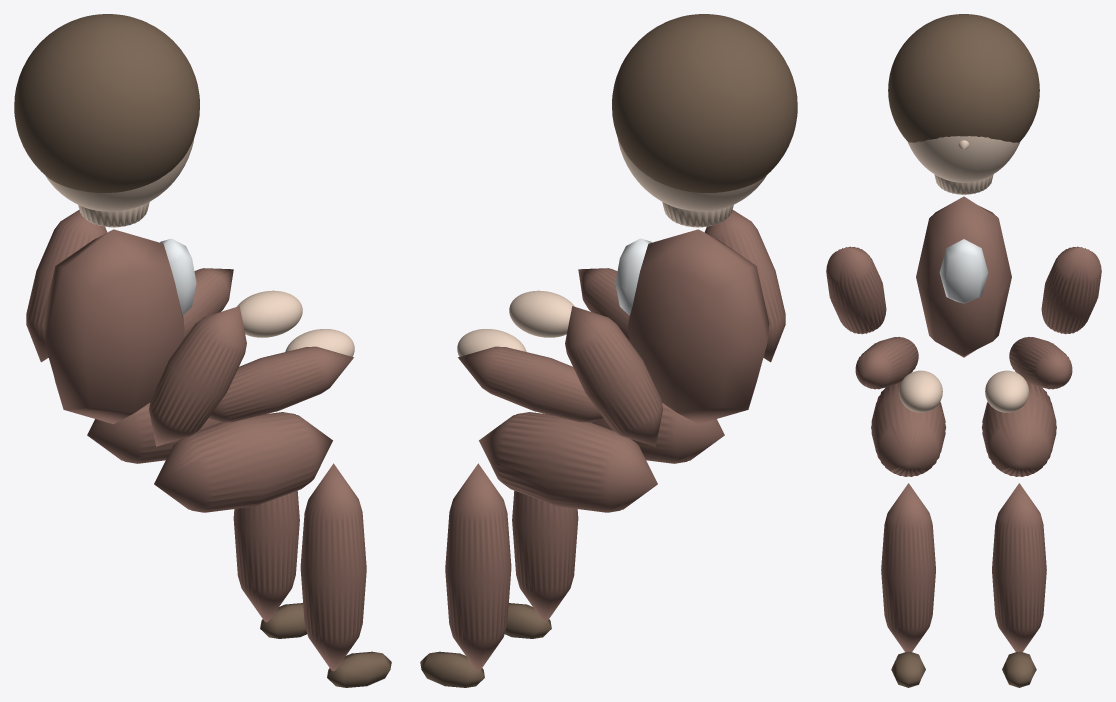
Rendered from prisoner_bob.glb.
3 views of the same model, side by side, from view 1: azimuth 30°, elevation 25°; view 2: azimuth 150°, elevation 25°; view 3: azimuth 270°, elevation 25° (orthographic). The views are drawn at different scales.
Parts seen in each view (by area): view 1: Prisoner_Bob; view 2: Prisoner_Bob; view 3: Prisoner_Bob.
Boxes of the visible parts, x1,y1,x2,y2 form: Prisoner_Bob: (14,14,391,687); Prisoner_Bob: (420,14,797,687); Prisoner_Bob: (826,14,1101,687).
Bounding box in the file's own units: 1.03 × 2.05 × 0.8964.
